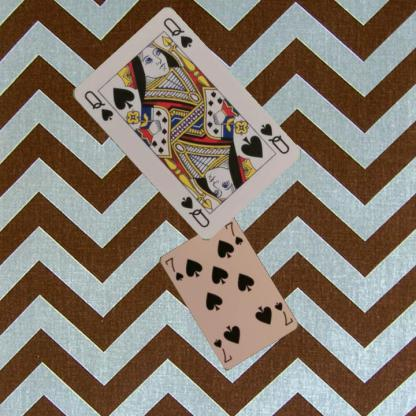7s: (162, 254, 185, 282), (272, 299, 294, 327)
Qs: (257, 120, 290, 156), (81, 88, 114, 122)
